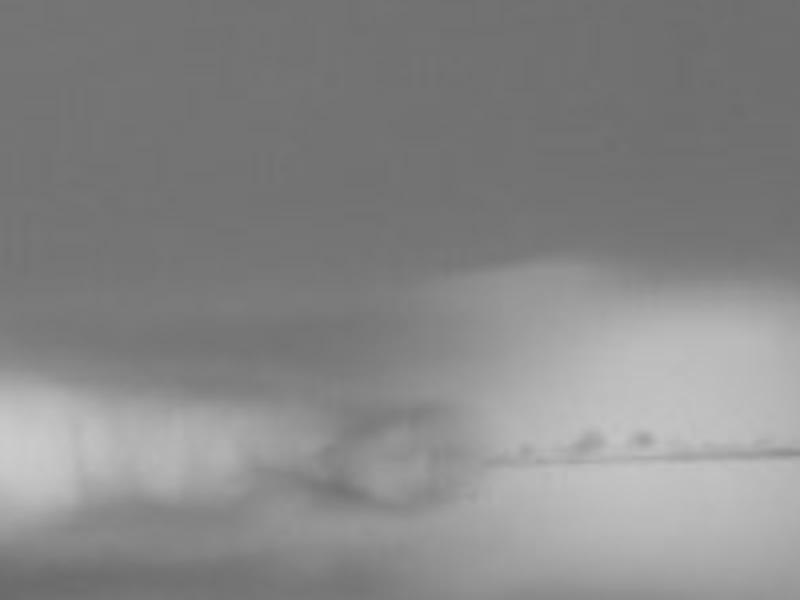defect: (564, 429, 601, 456), (514, 438, 541, 461), (627, 425, 654, 447)
